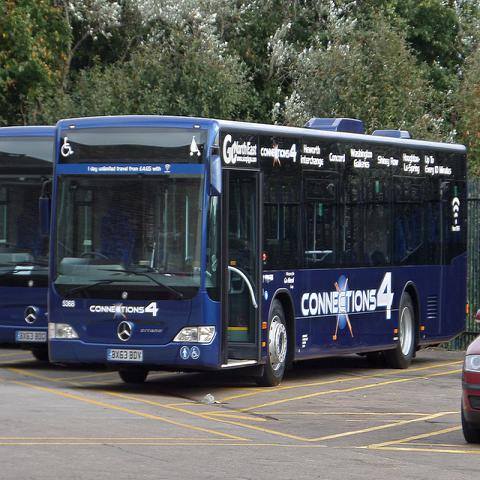bus: (34, 114, 471, 388), (2, 128, 55, 360)
car: (460, 309, 480, 443)
